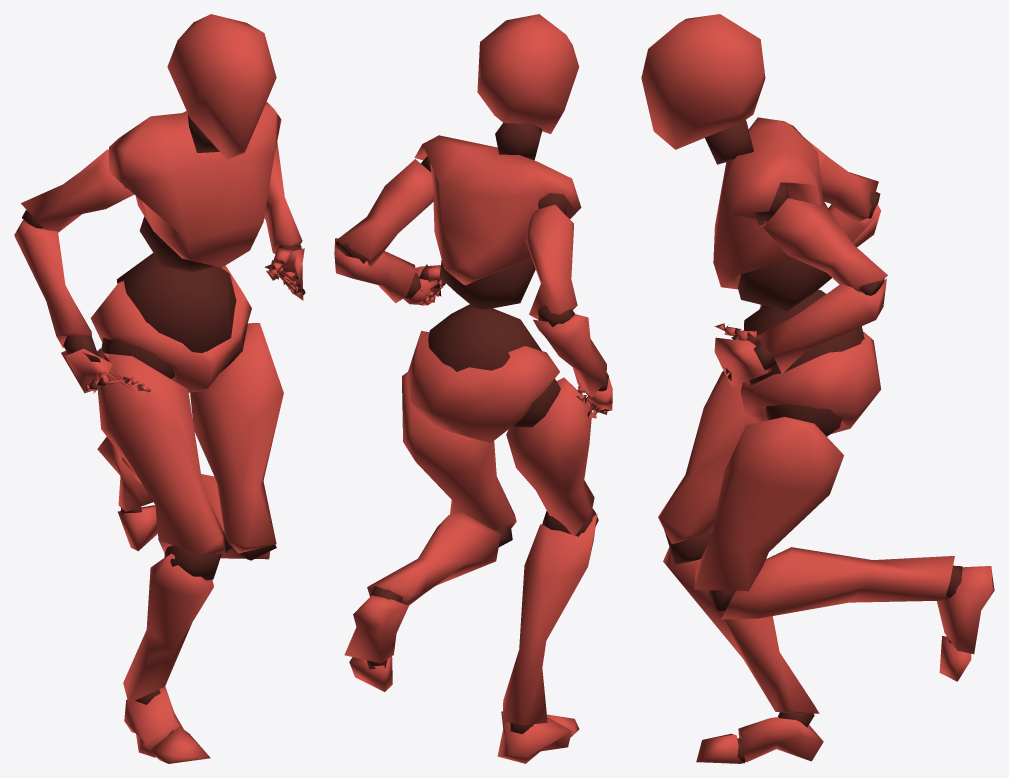
The picture shows the model from 3 angles, left to right: view 1: azimuth 30°, elevation 25°; view 2: azimuth 150°, elevation 25°; view 3: azimuth 270°, elevation 25°; orthographic projection. The views are drawn at different scales.
Visible parts, largest first — view 1: Beta_Surface.001; view 2: Beta_Surface.001; view 3: Beta_Surface.001.
Boxes of the visible parts, left/top/right/bottom form: Beta_Surface.001: left=14, top=14, right=305, bottom=763; Beta_Surface.001: left=334, top=14, right=612, bottom=763; Beta_Surface.001: left=641, top=14, right=994, bottom=763.
Size of the model in its own units: 5.18 by 14.33 by 6.03.
